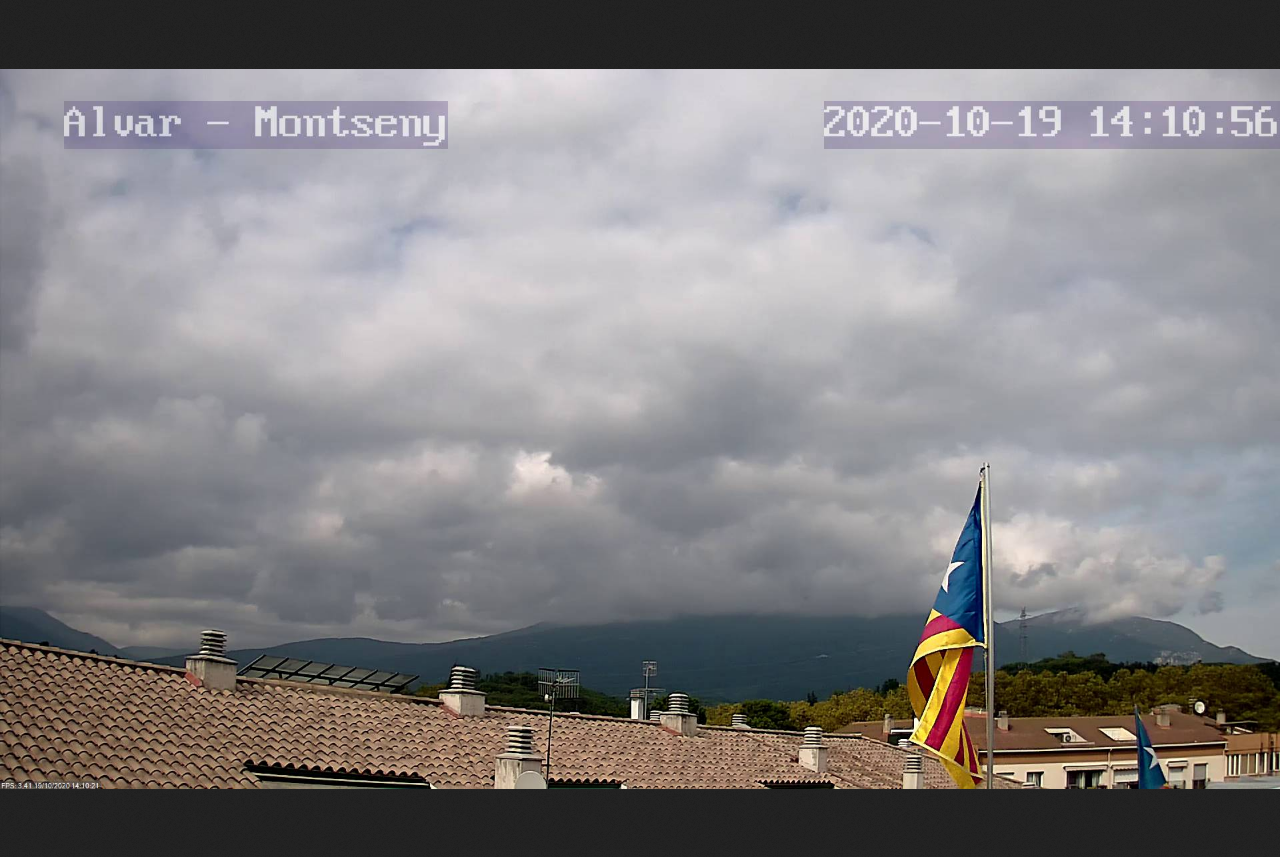no: (893, 458, 999, 794)
